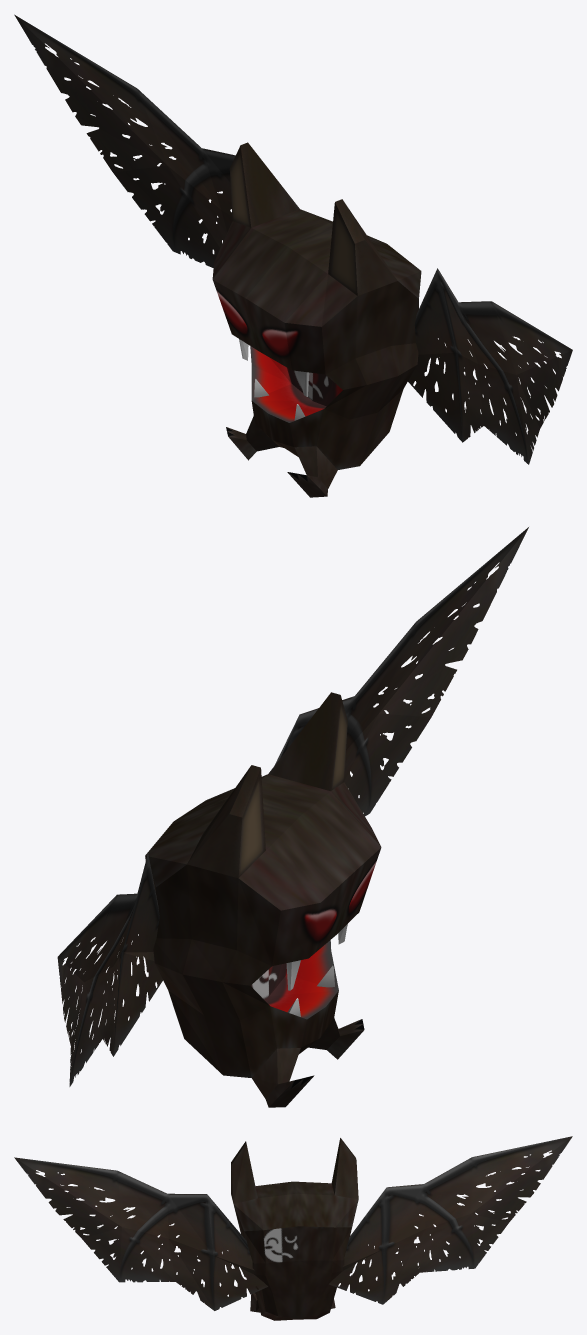
Rendered from Bats_rotated.obj.
The picture shows the model from 3 angles, top to bottom: view 1: azimuth 30°, elevation 25°; view 2: azimuth 150°, elevation 25°; view 3: azimuth 270°, elevation 25°; orthographic projection. The views are drawn at different scales.
Parts seen in each view (by area): view 1: bat; view 2: bat; view 3: bat.
Boxes of the visible parts, <box> form: bat: <box>14,14,572,497</box>; bat: <box>57,527,528,1107</box>; bat: <box>14,1136,572,1320</box>.
Size of the model in its own units: 0.6902 by 1.3 by 3.75.
Materials: 1 (1 with a texture image).
